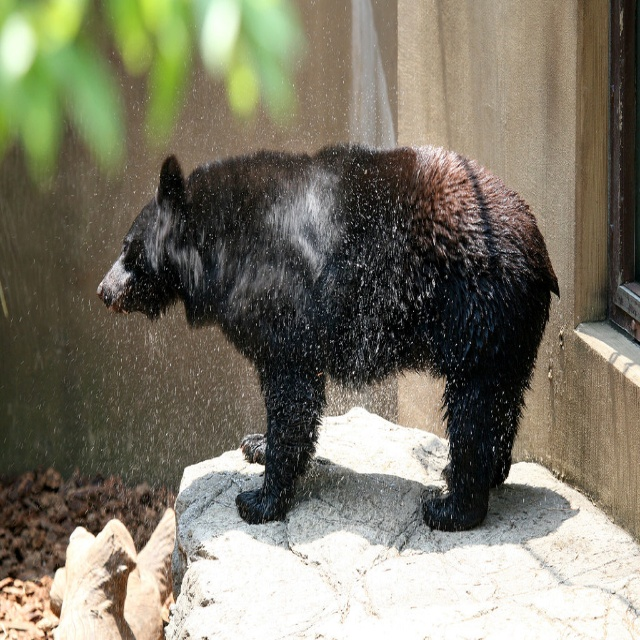Brown bear: (100, 140, 558, 531)
